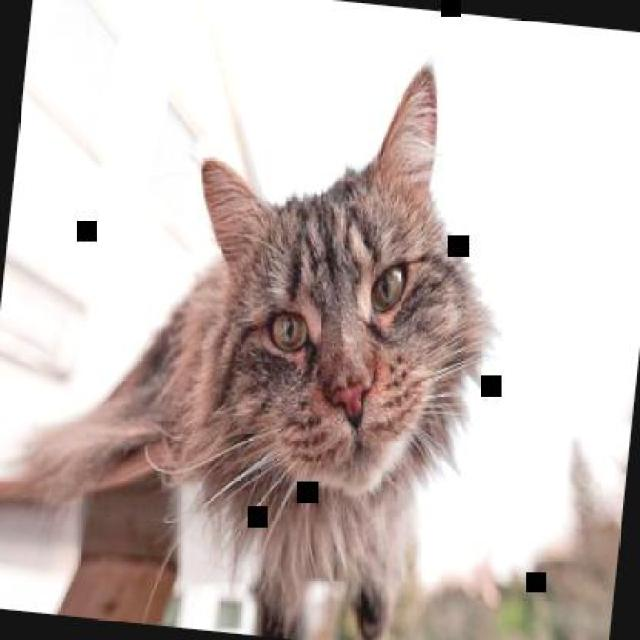cat: (28, 31, 518, 638)
